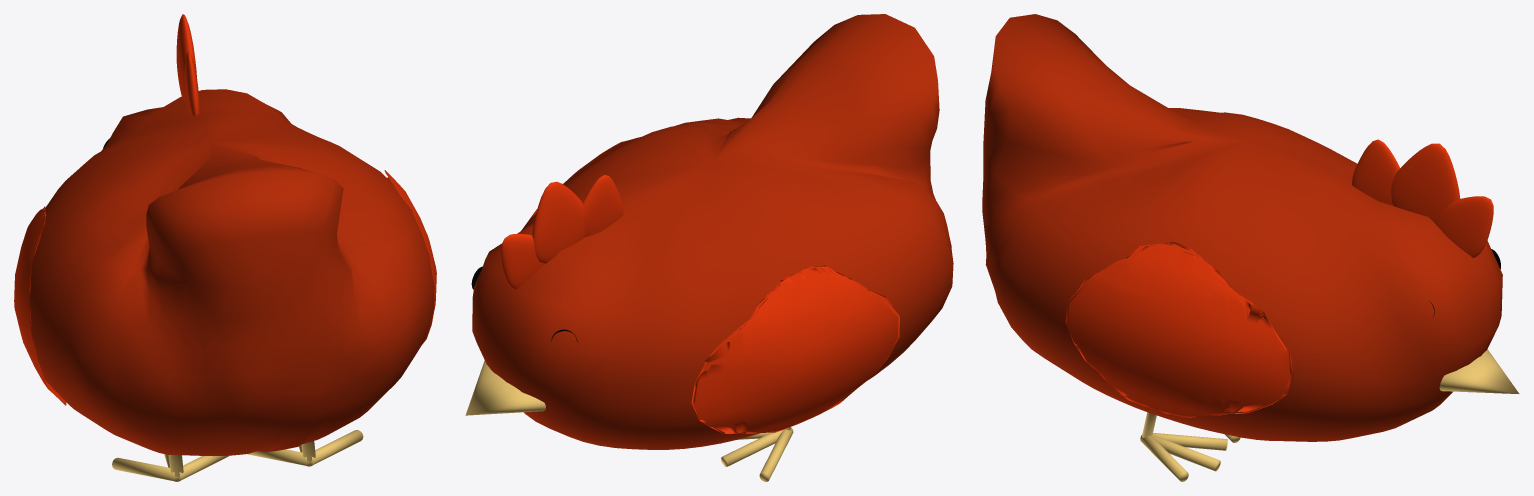
The model's file is galinha_vermelha.gltf.
The picture shows the model from 3 angles, left to right: view 1: azimuth 30°, elevation 25°; view 2: azimuth 150°, elevation 25°; view 3: azimuth 270°, elevation 25°; orthographic projection. The views are drawn at different scales.
Parts seen in each view (by area): view 1: galinha_vermelha; view 2: galinha_vermelha; view 3: galinha_vermelha.
Part boxes in pixels (<box>): galinha_vermelha: <box>14,14,436,481</box>; galinha_vermelha: <box>465,14,953,481</box>; galinha_vermelha: <box>982,14,1519,481</box>.
Bounding box in the file's own units: 0.6494 × 0.6253 × 0.7963.
